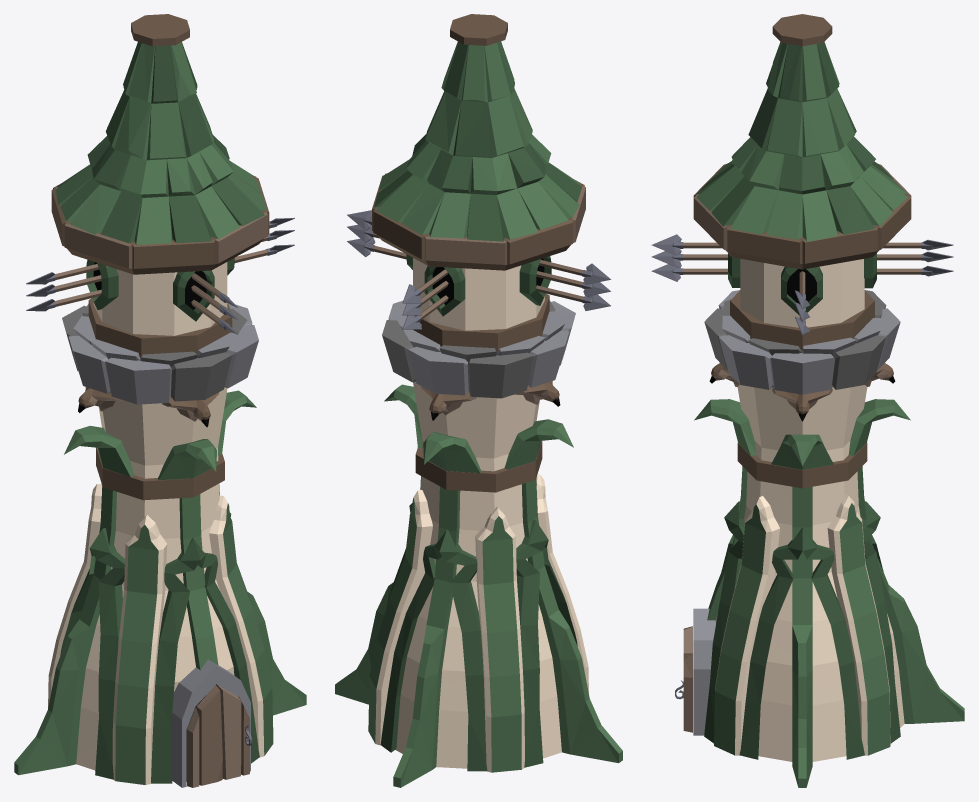
The model's file is Archer_Tower_lv3.gltf.
3 renders of one model, left to right at view 1: azimuth 30°, elevation 25°; view 2: azimuth 150°, elevation 25°; view 3: azimuth 270°, elevation 25°, orthographic. The views are drawn at different scales.
Visible parts, largest first — view 1: Archer_Tower_LVL_3_1; view 2: Archer_Tower_LVL_3_1; view 3: Archer_Tower_LVL_3_1.
Part boxes in pixels (left/top/right/bottom): Archer_Tower_LVL_3_1: left=14, top=14, right=306, bottom=787; Archer_Tower_LVL_3_1: left=335, top=14, right=622, bottom=787; Archer_Tower_LVL_3_1: left=651, top=14, right=964, bottom=787.
Size of the model in its own units: 3.19 by 7.53 by 3.09.
Materials: 1 (1 with a texture image).
